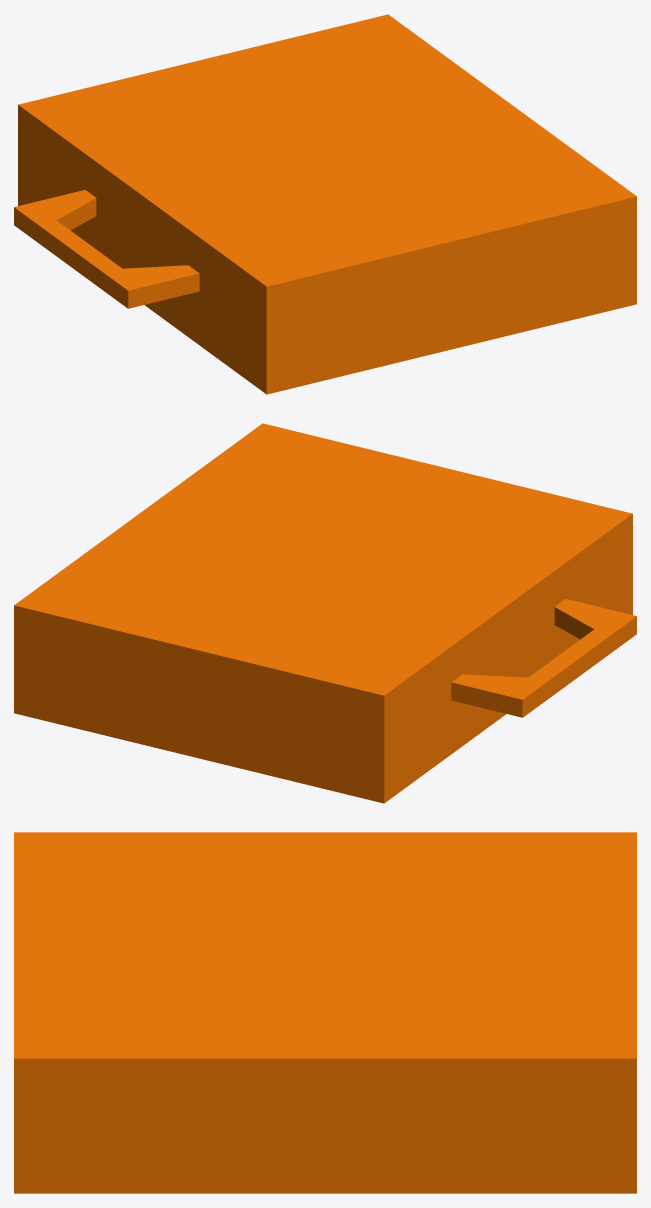
File: LuggageC.fbx
3 renders of one model, top to bottom at view 1: azimuth 30°, elevation 25°; view 2: azimuth 150°, elevation 25°; view 3: azimuth 270°, elevation 25°, orthographic. The views are drawn at different scales.
Parts seen in each view (by area): view 1: LuggageCTop, LuggageC; view 2: LuggageCTop, LuggageC; view 3: LuggageCTop, LuggageC.
Part boxes in pixels (box(x1,y1,x2,y2)): LuggageCTop: box(14, 14, 636, 340); LuggageC: box(18, 159, 636, 394); LuggageCTop: box(14, 423, 636, 749); LuggageC: box(14, 568, 632, 803); LuggageCTop: box(14, 832, 636, 1125); LuggageC: box(14, 1126, 636, 1193).
Size of the model in its own units: 33.2 by 7.75 by 32.39.
Materials: 1 (1 with a texture image).
